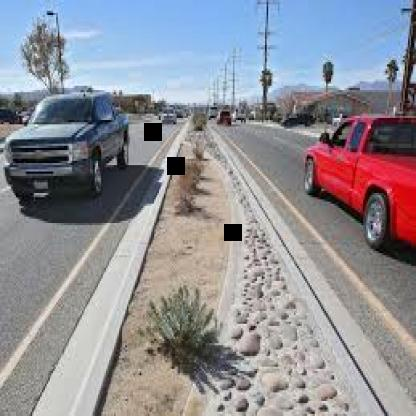car: (274, 102, 416, 270), (10, 82, 134, 210), (158, 99, 178, 131), (212, 100, 236, 126)
